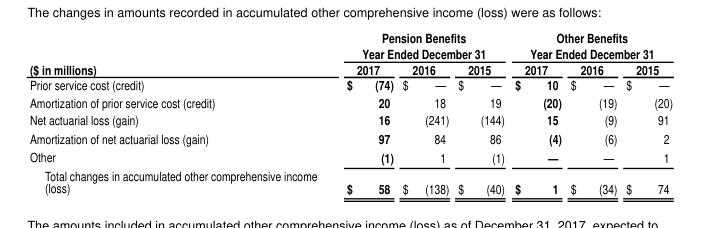table: (28, 28, 672, 197)
table column: (28, 28, 331, 197), (331, 28, 397, 197), (452, 28, 509, 197), (509, 28, 565, 197), (397, 28, 452, 197), (565, 28, 620, 197), (620, 28, 672, 197)
table column header: (28, 28, 672, 76)
table row: (28, 28, 672, 61), (28, 165, 672, 197), (28, 146, 672, 165), (28, 92, 672, 110), (28, 110, 672, 128), (28, 128, 672, 146), (28, 76, 672, 92), (28, 61, 672, 76)
table spanning cell: (28, 28, 331, 76), (331, 28, 509, 61), (509, 28, 672, 61)
